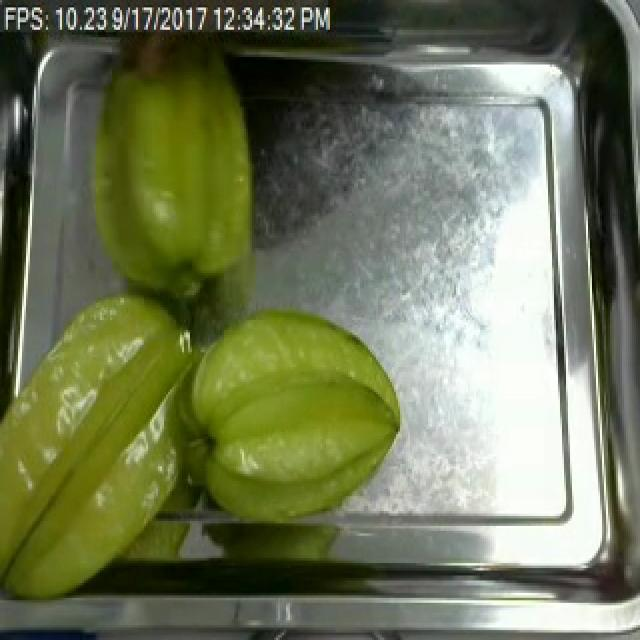fruit: (0, 270, 204, 616), (174, 298, 414, 538), (72, 22, 268, 315)
